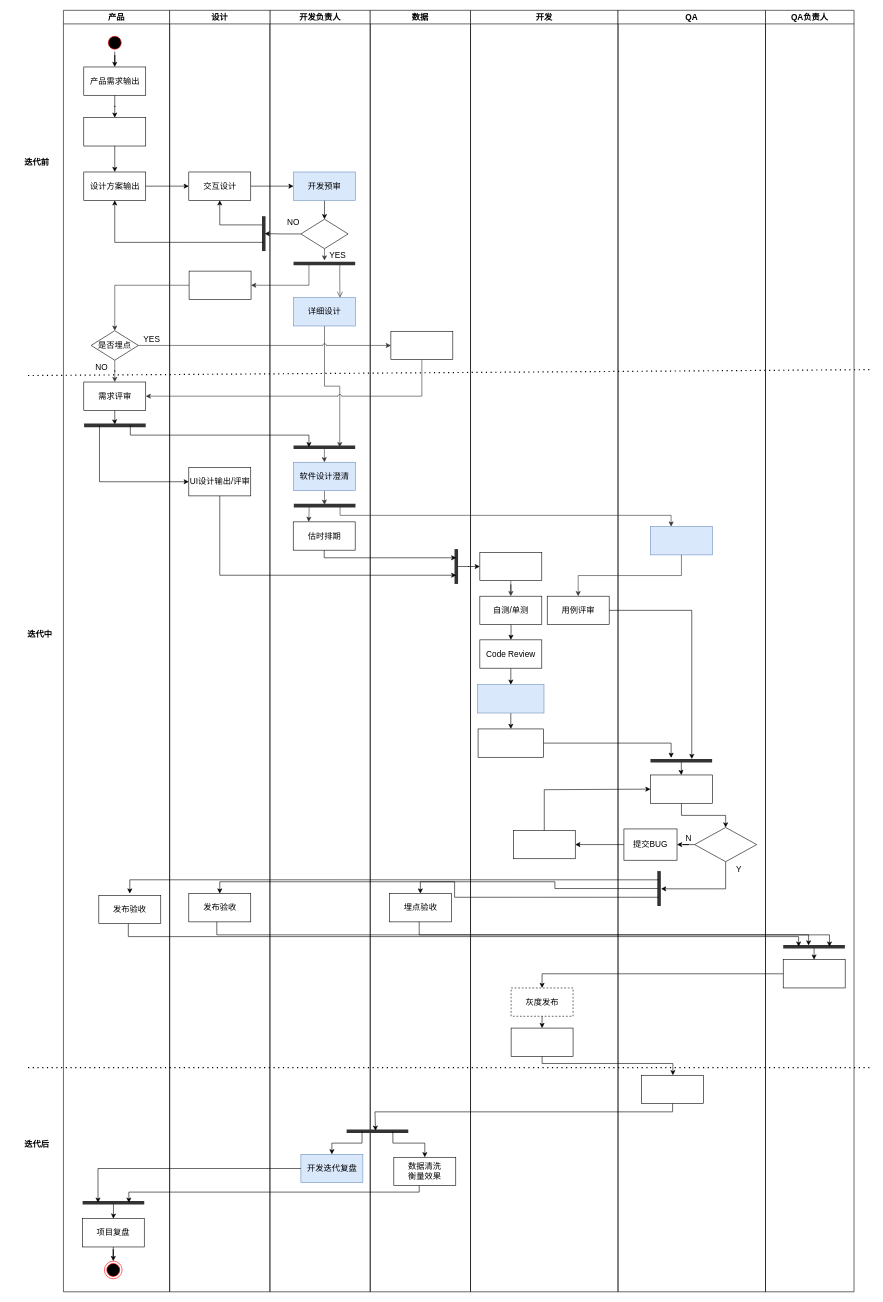
The diagram is 883 pixels wide and 1302 high, and some of its shapes have lost their labels. The centre of each missing label's shape, as x and y in pixels:
"BUG修复" goes at point 544,844.
"Show Case" goes at point 510,698.
"交互设计完善" goes at point 220,285.
"功能走查" goes at point 672,1089.
"发布上线" goes at point 542,1041.
"发布确认" goes at point 814,973.
"埋点设计/评审" goes at point 421,345.
"提测" goes at point 510,742.
"测试" goes at point 681,788.
"测试用例输出" goes at point 681,540.
"版本开发" goes at point 510,566.
"跨业务需求 同步" goes at point 114,131.
"达到交付标准" goes at point 725,844.
"通过" goes at point 324,234.
